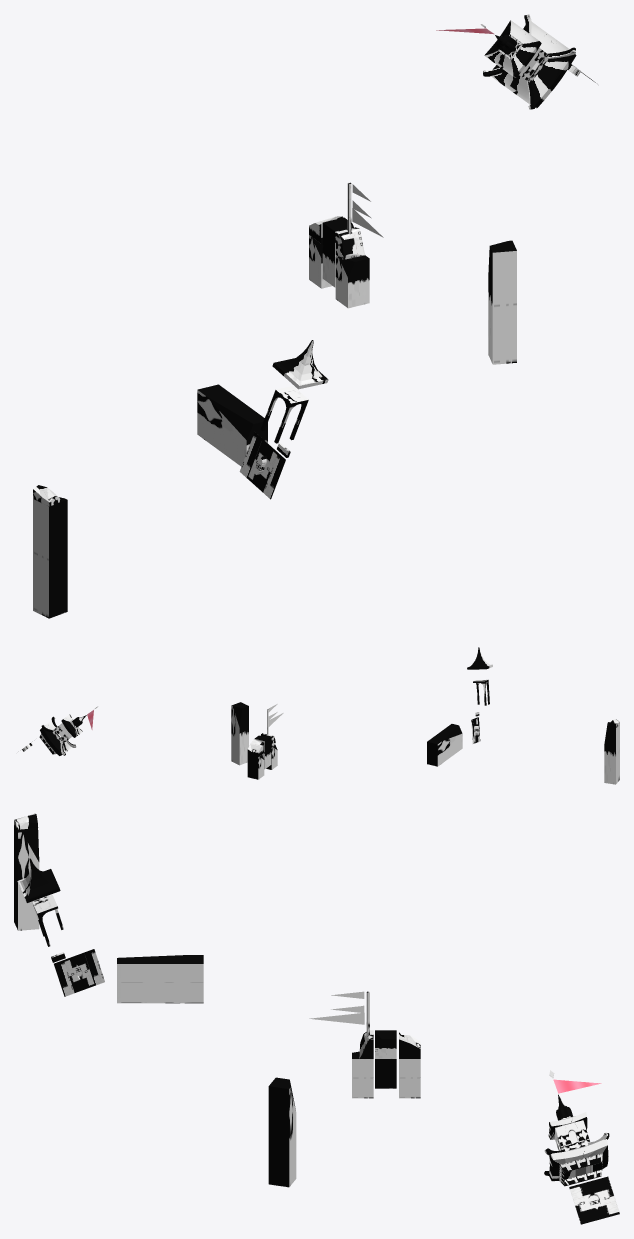
File: boat.fbx
The picture shows the model from 3 angles, top to bottom: view 1: azimuth 30°, elevation 25°; view 2: azimuth 150°, elevation 25°; view 3: azimuth 270°, elevation 25°; orthographic projection. The views are drawn at different scales.
Visible parts, largest first — view 1: Rooftops_Wall_Big, Boat_Builder_Single_End_Convex (8), Boat_Builder_Single_End_Convex (6), Boat_Builder_Single_End_Convex (7), Boat_Builder_Single_End_Convex (5), Rooftops_Curved_01; view 2: Rooftops_Wall_Big, Boat_Builder_Single_End_Convex (6), Boat_Builder_Single_End_Convex (7), Boat_Builder_Single_End_Convex (8), Boat_Builder_Single_End_Convex (4), Boat_Builder_Single_End_Convex (1), Rooftops_Curved_01; view 3: Boat_Builder_Single_End_Convex (6), Rooftops_Wall_Big, Boat_Builder_Single_End_Convex (7), Boat_Builder_Single_End_Convex (8), Windows_Onion (×2), Rooftops_Curved_01, Boat_Builder_Single_End_Convex (5), Boat_Builder_Single_End_Convex (4), Boat_Builder_Single_End_Convex (3), Boat_Builder_Single_End_Convex (2).
Part boxes in pixels (x1,y1,x2,y2): Rooftops_Wall_Big: (483,14,576,109); Boat_Builder_Single_End_Convex (8): (33,497,67,618); Boat_Builder_Single_End_Convex (6): (197,384,267,466); Boat_Builder_Single_End_Convex (7): (488,240,516,364); Boat_Builder_Single_End_Convex (5): (335,255,369,308); Rooftops_Curved_01: (272,340,328,389); Rooftops_Wall_Big: (39,714,86,755); Boat_Builder_Single_End_Convex (6): (427,724,462,766); Boat_Builder_Single_End_Convex (7): (231,702,248,765); Boat_Builder_Single_End_Convex (8): (604,722,619,784); Boat_Builder_Single_End_Convex (4): (247,755,264,779); Boat_Builder_Single_End_Convex (1): (247,739,264,757); Rooftops_Curved_01: (467,647,492,669); Boat_Builder_Single_End_Convex (6): (117,955,203,1003); Rooftops_Wall_Big: (544,1094,609,1186); Boat_Builder_Single_End_Convex (7): (268,1077,296,1187); Boat_Builder_Single_End_Convex (8): (14,824,39,930); Windows_Onion (×2): (569,1176,619,1224); Rooftops_Curved_01: (17,858,60,902); Boat_Builder_Single_End_Convex (5): (352,1051,373,1098); Boat_Builder_Single_End_Convex (4): (399,1059,420,1098); Boat_Builder_Single_End_Convex (3): (375,1049,396,1088); Boat_Builder_Single_End_Convex (2): (375,1030,396,1058).
Size of the model in its own units: 41.07 by 9.16 by 27.95.
